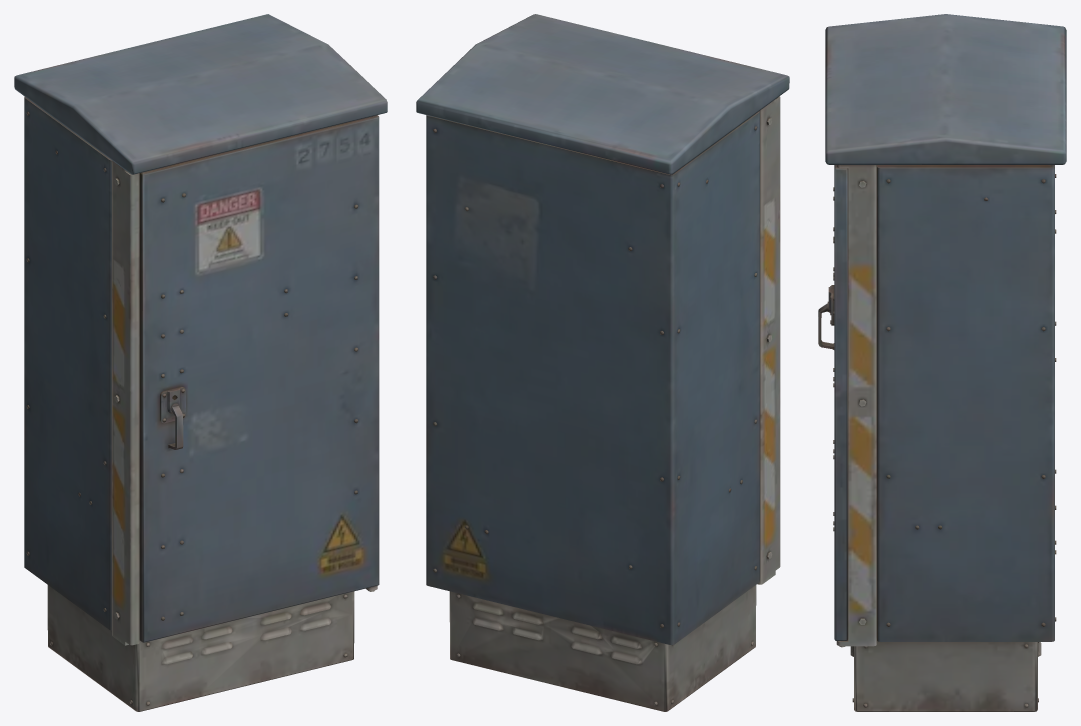
File: utility_box_01.glb
3 renders of one model, left to right at view 1: azimuth 30°, elevation 25°; view 2: azimuth 150°, elevation 25°; view 3: azimuth 270°, elevation 25°, orthographic.
Visible parts, largest first — view 1: utility_box_01_box; view 2: utility_box_01_box; view 3: utility_box_01_box.
Boxes of the visible parts, x1,y1,x2,y2 form: utility_box_01_box: (14, 14, 387, 711); utility_box_01_box: (416, 14, 789, 711); utility_box_01_box: (818, 14, 1066, 711).
Size of the model in its own units: 0.52 by 1.12 by 0.432.
1 material, 1 textured.
